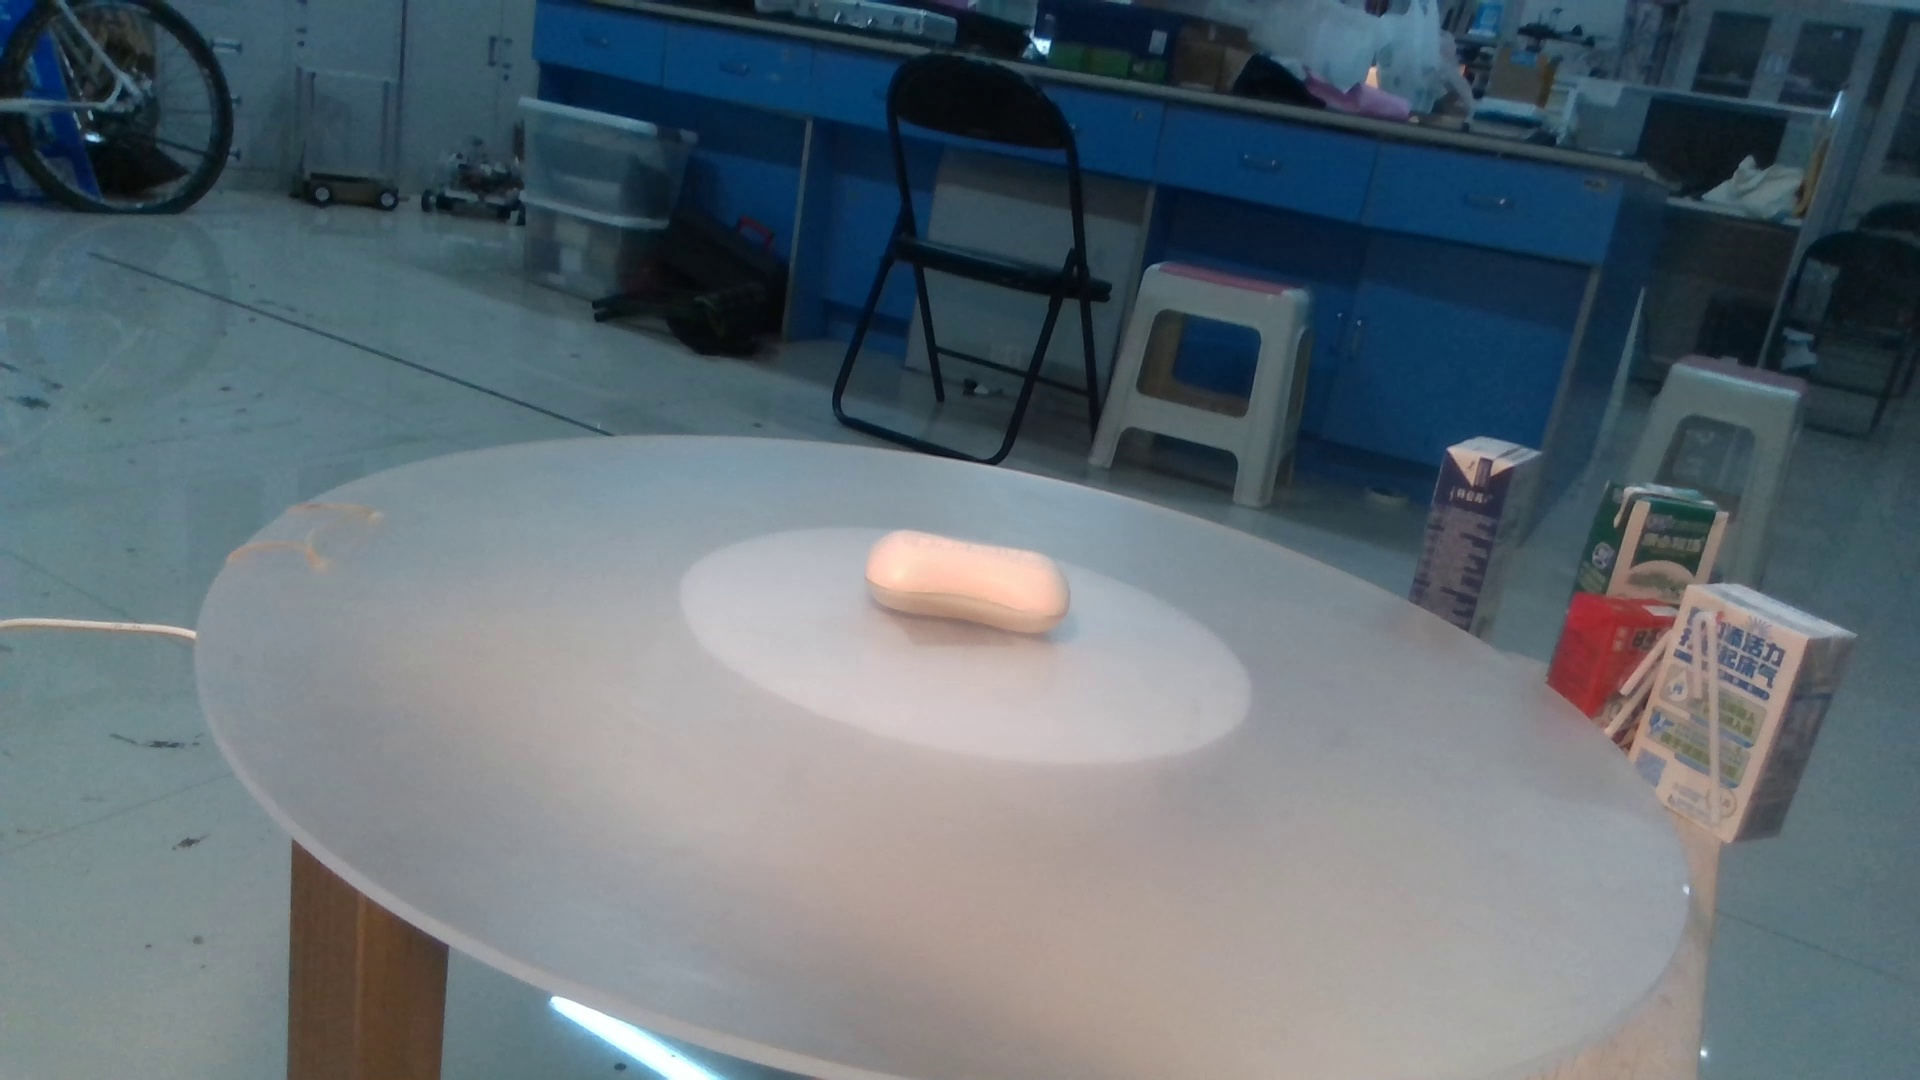CA003_1: (833, 502, 1106, 658)
